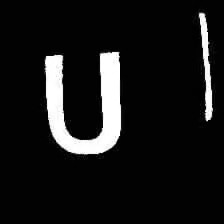LTR_U: (35, 41, 126, 160)
